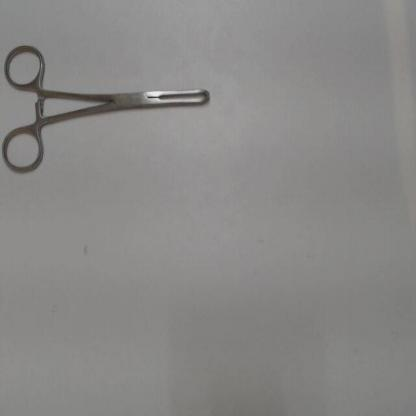Allis Tissue Forceps: (0, 37, 223, 183)
